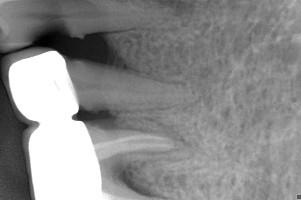Endo-Periodontal Lesion: (120, 168, 157, 197)
